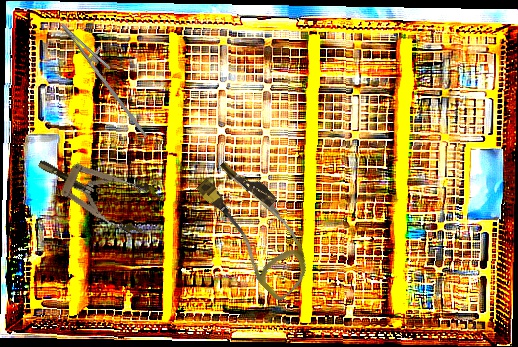Cannula: (182, 152, 331, 304)
Needle Holder: (47, 15, 169, 139)
Speculum: (28, 139, 165, 239)
